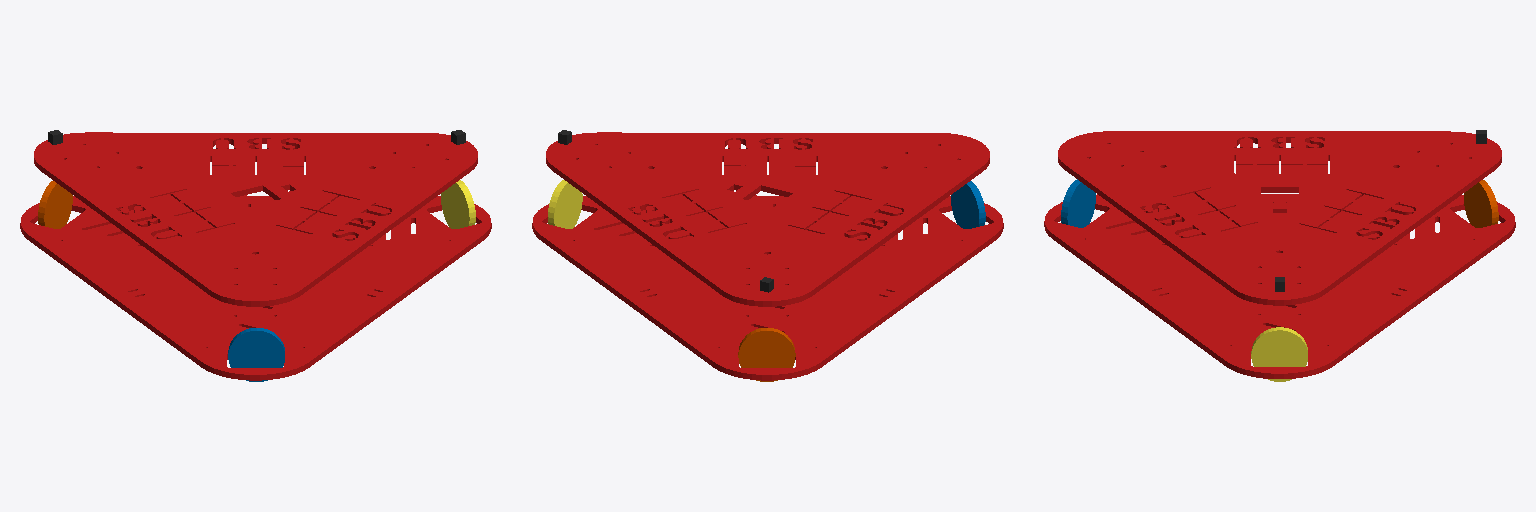
The robot description file, URDF, robot "robot":
<?xml version="1.0" ?>
<!-- =================================================================================== -->
<!-- |    This document was autogenerated by xacro from my_model_experimental.xacro    | -->
<!-- |    EDITING THIS FILE BY HAND IS NOT RECOMMENDED                                 | -->
<!-- =================================================================================== -->
<robot name="robot">
  <material name="black">
    <color rgba="0.0 0.0 0.0 1.0"/>
  </material>
  <material name="blue">
    <color rgba="0.203125 0.23828125 0.28515625 1.0"/>
  </material>
  <material name="green">
    <color rgba="0.0 0.8 0.0 1.0"/>
  </material>
  <material name="grey">
    <color rgba="0.2 0.2 0.2 1.0"/>
  </material>
  <material name="orange">
    <color rgba="1.0 0.423529411765 0.0392156862745 1.0"/>
  </material>
  <material name="brown">
    <color rgba="0.870588235294 0.811764705882 0.764705882353 1.0"/>
  </material>
  <material name="red">
    <color rgba="0.80078125 0.12890625 0.1328125 1.0"/>
  </material>
  <material name="white">
    <color rgba="1.0 1.0 1.0 1.0"/>
  </material>
  <gazebo reference="link_chassis">
    <material>Gazebo/Orange</material>
  </gazebo>
  <gazebo reference="link_left_wheel">
    <material>Gazebo/Orange</material>
  </gazebo>
  <gazebo reference="link_right_wheel">
    <material>Gazebo/Orange</material>
  </gazebo>
  <gazebo reference="link_third_wheel">
    <material>Gazebo/Orange</material>
  </gazebo>
  <gazebo reference="camera_link">
    <material>Gazebo/Blue</material>
  </gazebo>
  <gazebo reference="sonar_link">
    <material>Gazebo/Black</material>
  </gazebo>
  <gazebo>
    <plugin filename="libgazebo_ros_control.so" name="gazebo_ros_control">
      <robotNamespace>/robot</robotNamespace>
    </plugin>
  </gazebo>
  <gazebo>
    <plugin filename="libgazebo_ros_diff_drive.so" name="differential_drive_controller">
      <alwaysOn>true</alwaysOn>
      <updateRate>20</updateRate>
      <leftJoint>joint_left_wheel</leftJoint>
      <rightJoint>joint_right_wheel</rightJoint>
      <wheelSeparation>0.4</wheelSeparation>
      <wheelDiameter>0.2</wheelDiameter>
      <torque>0.1</torque>
      <commandTopic>cmd_vel</commandTopic>
      <odometryTopic>odom</odometryTopic>
      <odometryFrame>odom</odometryFrame>
      <robotBaseFrame>link_chassis</robotBaseFrame>
    </plugin>
  </gazebo>
  <gazebo reference="sensor_laser">
    <sensor name="head_hokuyo_sensor" type="ray">
      <pose>0 0 0 0 0 0</pose>
      <visualize>false</visualize>
      <update_rate>20</update_rate>
      <ray>
        <scan>
          <horizontal>
            <samples>720</samples>
            <resolution>1</resolution>
            <min_angle>-1.570796</min_angle>
            <max_angle>1.570796</max_angle>
          </horizontal>
        </scan>
        <range>
          <min>0.10</min>
          <max>10.0</max>
          <resolution>0.01</resolution>
        </range>
        <noise>
          <type>gaussian</type>
          <mean>0.0</mean>
          <stddev>0.01</stddev>
        </noise>
      </ray>
      <plugin filename="libgazebo_ros_laser.so" name="gazebo_ros_head_hokuyo_controller">
        <topicName>/m2wr/laser/scan</topicName>
        <frameName>sensor_laser</frameName>
      </plugin>
    </sensor>
  </gazebo>
  <link name="base_link">
    <inertial>
      <mass value="5"/>
      <origin rpy="0 0 3.14" xyz="0 0 0.117"/>
      <inertia ixx="0.000738" ixy="0" ixz="0" iyy="0.000738" iyz="-0.000000" izz="0.001304"/>
    </inertial>
    <visual>
      <origin rpy="0 0 3.14" xyz="0 0 0.117"/>
      <geometry>
        <mesh filename="package://rob_pkg/meshes/two_plate_s.dae"/>
      </geometry>
      <material name="red"/>
    </visual>
    <collision>
      <origin rpy="0 0 3.14" xyz="0 0 0.117"/>
      <geometry>
        <mesh filename="package://rob_pkg/meshes/two_plate_s.dae"/>
      </geometry>
    </collision>
  </link>
  <link name="camera_link">
    <origin rpy="0 0 0" xyz="0.49387499999999995 0 0.225"/>
    <collision>
      <geometry>
        <box size="0.022500000000000003 0.022500000000000003 0.022500000000000003"/>
      </geometry>
    </collision>
    <visual>
      <geometry>
        <box size="0.022500000000000003 0.022500000000000003 0.022500000000000003"/>
      </geometry>
      <material name="grey">
        <color rgba="0.2 0.2 0.2 1.0"/>
      </material>
    </visual>
    <inertial>
      <mass value="0.001"/>
      <inertia ixx="8.437500000000001e-08" ixy="0.0" ixz="0.0" iyy="8.437500000000001e-08" iyz="0.0" izz="8.437500000000001e-08"/>
    </inertial>
  </link>
  <joint name="camera_joint" type="fixed">
    <parent link="base_link"/>
    <child link="camera_link"/>
    <origin rpy="0 0 0" xyz="0.49387499999999995 0 0.225"/>
    <axis xyz="1 0 0"/>
  </joint>
  <gazebo reference="camera_link">
    <sensor name="camera_camera_sensor" type="camera">
      <update_rate>30.0</update_rate>
      <camera>
        <pose>0.035 0 0.078 0 0 0</pose>
        <horizontal_fov>1.4835298641951802</horizontal_fov>
        <image>
          <format>R8G8B8</format>
          <width>1020</width>
          <height>1020</height>
        </image>
        <clip>
          <near>0.01</near>
          <far>100</far>
        </clip>
      </camera>
      <plugin filename="libgazebo_ros_camera.so" name="camera_camera_controller">
        <alwaysOn>true</alwaysOn>
        <updateRate>0.0</updateRate>
        <cameraName>robot_sensor/camera</cameraName>
        <imageTopicName>image_raw</imageTopicName>
        <cameraInfoTopicName>camera_info</cameraInfoTopicName>
        <frameName>camera_link</frameName>
        <hackBaseline>0.07</hackBaseline>
        <distortionK1>0.0</distortionK1>
        <distortionK2>0.0</distortionK2>
        <distortionK3>0.0</distortionK3>
        <distortionT1>0.0</distortionT1>
        <distortionT2>0.0</distortionT2>
      </plugin>
    </sensor>
  </gazebo>
  <link name="sonar_link">
    <origin rpy="0 0 1.5707963267948966" xyz="-0.24750000000000003 0.4275 0.225"/>
    <collision>
      <geometry>
        <box size="0.022500000000000003 0.022500000000000003 0.022500000000000003"/>
      </geometry>
    </collision>
    <visual>
      <geometry>
        <box size="0.022500000000000003 0.022500000000000003 0.022500000000000003"/>
      </geometry>
      <material name="grey">
        <color rgba="0.2 0.2 0.2 1.0"/>
      </material>
    </visual>
    <inertial>
      <mass value="0.001"/>
      <inertia ixx="8.437500000000001e-08" ixy="0.0" ixz="0.0" iyy="8.437500000000001e-08" iyz="0.0" izz="8.437500000000001e-08"/>
    </inertial>
  </link>
  <joint name="sonar_joint" type="fixed">
    <parent link="base_link"/>
    <child link="sonar_link"/>
    <origin rpy="0 0 1.5707963267948966" xyz="-0.24750000000000003 0.4275 0.225"/>
    <axis xyz="1 0 0"/>
  </joint>
  <gazebo reference="sonar_link">
    <sensor name="sonar" type="ray">
      <pose>0.25 0 0 0 0 0</pose>
      <update_rate>5</update_rate>
      <ray>
        <scan>
          <horizontal>
            <samples>5</samples>
            <resolution>1.0</resolution>
            <min_angle>-0.25</min_angle>
            <max_angle>0.25</max_angle>
          </horizontal>
          <vertical>
            <samples>5</samples>
            <resolution>1</resolution>
            <min_angle>-0.25</min_angle>
            <max_angle>0.25</max_angle>
          </vertical>
        </scan>
        <range>
          <min>0.1</min>
          <max>0.5</max>
          <resolution>0.01</resolution>
        </range>
      </ray>
      <plugin filename="libgazebo_ros_range.so" name="gazebo_ros_range">
        <gaussianNoise>0.005</gaussianNoise>
        <alwaysOn>true</alwaysOn>
        <updateRate>5</updateRate>
        <topicName>sonar</topicName>
        <frameName>sonar_link</frameName>
        <fov>0.5</fov>
        <radiation>ultrasound</radiation>
      </plugin>
    </sensor>
  </gazebo>
  <link name="link_right_wheel">
    <mass value="0.225"/>
    <origin rpy="0 1.5707963267948966 0" xyz="0.49387499999999995 0.0 0.060750000000000005"/>
    <collision name="link_right_wheel_collision">
      <geometry>
        <cylinder length="0.015750000000000004" radius="0.060750000000000005"/>
      </geometry>
      <surface>
        <bounce>
          <restitution_coefficient>.2</restitution_coefficient>
        </bounce>
        <friction>
          <ode>
            <mu>1000000</mu>
            <mu2>100</mu2>
            <fdir1>1 0 0</fdir1>
            <slip1> 0</slip1>
            <slip2>0</slip2>
          </ode>
        </friction>
        <contact>
          <ode/>
        </contact>
      </surface>
    </collision>
    <visual name="link_right_wheel_visual">
      <geometry>
        <cylinder length="0.015750000000000004" radius="0.060750000000000005"/>
      </geometry>
    </visual>
    <inertial>
      <mass value="0.225"/>
      <inertia ixx="0.00021224531250000004" ixy="0" ixz="0" iyy="0.00021224531250000004" iyz="0" izz="0.0004151882812500001"/>
    </inertial>
  </link>
  <joint name="joint_right_wheel" type="continuous">
    <origin rpy="0 1.5707963267948966 0" xyz="0.49387499999999995 0 0.060750000000000005"/>
    <child link="link_right_wheel"/>
    <parent link="base_link"/>
    <axis rpy="0 0 0" xyz="0 0 1"/>
  </joint>
  <!-- Rear wheels transmission -->
  <transmission name="transmission_right_wheel">
    <type>transmission_interface/SimpleTransmission</type>
    <joint name="joint_right_wheel">
      <hardwareInterface>hardware_interface/EffortJointInterface</hardwareInterface>
    </joint>
    <actuator name="motor_right_wheel">
      <hardwareInterface>hardware_interface/EffortJointInterface</hardwareInterface>
      <mechanicalReduction>1</mechanicalReduction>
    </actuator>
  </transmission>
  <link name="link_left_wheel">
    <mass value="0.225"/>
    <origin rpy="0 1.5707963267948966 1.0472" xyz="-0.24750000000000003 -0.4275 0.060750000000000005"/>
    <collision name="link_left_wheel_collision">
      <geometry>
        <cylinder length="0.015750000000000004" radius="0.060750000000000005"/>
      </geometry>
    </collision>
    <visual name="link_left_wheel_visual">
      <geometry>
        <cylinder length="0.015750000000000004" radius="0.060750000000000005"/>
      </geometry>
      <surface>
        <bounce>
          <restitution_coefficient>.2</restitution_coefficient>
        </bounce>
        <friction>
          <ode>
            <mu>1000000</mu>
            <mu2>100</mu2>
            <fdir1>1 0 0</fdir1>
            <slip1> 0</slip1>
            <slip2>0</slip2>
          </ode>
        </friction>
        <contact>
          <ode/>
        </contact>
      </surface>
    </visual>
    <inertial>
      <mass value="0.225"/>
      <inertia ixx="0.00021224531250000004" ixy="0" ixz="0" iyy="0.00021224531250000004" iyz="0" izz="0.0004151882812500001"/>
    </inertial>
  </link>
  <joint name="joint_left_wheel" type="continuous">
    <origin rpy="0 1.5707963267948966 1.0472" xyz="-0.24750000000000003 -0.4275 0.060750000000000005"/>
    <child link="link_left_wheel"/>
    <parent link="base_link"/>
    <axis rpy="0 0 0" xyz="0 0 1"/>
  </joint>
  <!-- Rear wheels transmission -->
  <transmission name="transmission_left_wheel">
    <type>transmission_interface/SimpleTransmission</type>
    <joint name="joint_left_wheel">
      <hardwareInterface>hardware_interface/EffortJointInterface</hardwareInterface>
    </joint>
    <actuator name="motor_left_wheel">
      <hardwareInterface>hardware_interface/EffortJointInterface</hardwareInterface>
      <mechanicalReduction>1</mechanicalReduction>
    </actuator>
  </transmission>
  <link name="link_third_wheel">
    <mass value="0.225"/>
    <origin rpy="0 1.5707963267948966 2.0944" xyz="-0.24750000000000003 0.4275 0.060750000000000005"/>
    <collision name="link_third_wheel_collision">
      <geometry>
        <cylinder length="0.015750000000000004" radius="0.060750000000000005"/>
      </geometry>
    </collision>
    <visual name="link_third_wheel_visual">
      <geometry>
        <cylinder length="0.015750000000000004" radius="0.060750000000000005"/>
      </geometry>
      <surface>
        <bounce>
          <restitution_coefficient>.2</restitution_coefficient>
        </bounce>
        <friction>
          <ode>
            <mu>1000000</mu>
            <mu2>100</mu2>
            <fdir1>1 0 0</fdir1>
            <slip1> 0</slip1>
            <slip2>0</slip2>
          </ode>
        </friction>
        <contact>
          <ode/>
        </contact>
      </surface>
    </visual>
    <inertial>
      <mass value="0.225"/>
      <inertia ixx="0.00021224531250000004" ixy="0" ixz="0" iyy="0.00021224531250000004" iyz="0" izz="0.0004151882812500001"/>
    </inertial>
  </link>
  <joint name="joint_third_wheel" type="continuous">
    <origin rpy="0 1.5707963267948966 2.0944" xyz="-0.24750000000000003 0.4275 0.060750000000000005"/>
    <child link="link_third_wheel"/>
    <parent link="base_link"/>
    <axis rpy="0 0 0" xyz="0 0 1"/>
  </joint>
  <!-- Rear wheels transmission -->
  <transmission name="transmission_third_wheel">
    <type>transmission_interface/SimpleTransmission</type>
    <joint name="joint_third_wheel">
      <hardwareInterface>hardware_interface/EffortJointInterface</hardwareInterface>
    </joint>
    <actuator name="motor_third_wheel">
      <hardwareInterface>hardware_interface/EffortJointInterface</hardwareInterface>
      <mechanicalReduction>1</mechanicalReduction>
    </actuator>
  </transmission>
</robot>

--- What the picture shows (computed from the rendered views, not written in the file) ---
Views: 3 orthographic renders of the robot side by side, from view 1: azimuth 30°, elevation 25°; view 2: azimuth 150°, elevation 25°; view 3: azimuth 270°, elevation 25°.
Robot: robot — 6 links, 5 joints (3 continuous, 2 fixed); root link base_link; default pose: all joints at 0.
Links seen in each view (by area): view 1: base_link, link_left_wheel, link_right_wheel, link_third_wheel; view 2: base_link, link_third_wheel, link_right_wheel, link_left_wheel; view 3: base_link, link_right_wheel, link_left_wheel, link_third_wheel.
Link boxes in pixels (box(x1,y1,x2,y2)): base_link: box(20, 132, 491, 380); link_left_wheel: box(228, 328, 284, 381); link_right_wheel: box(441, 180, 475, 228); link_third_wheel: box(38, 181, 72, 228); base_link: box(532, 132, 1003, 380); link_third_wheel: box(738, 328, 795, 381); link_right_wheel: box(548, 180, 582, 228); link_left_wheel: box(951, 181, 985, 228); base_link: box(1044, 131, 1515, 378); link_right_wheel: box(1251, 327, 1307, 381); link_left_wheel: box(1061, 179, 1095, 227); link_third_wheel: box(1464, 180, 1498, 227).
Bounding box of the posed robot: 0.9019 × 1 × 0.2362 m (x, y, z).
Meshes: 1 distinct files referenced, 1 mesh visuals loaded (1 Collada DAE).
